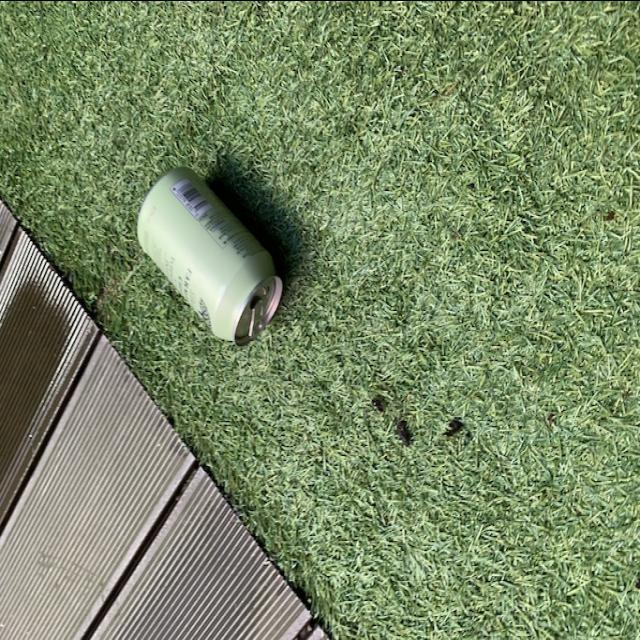Aluminum Can: (136, 160, 304, 348)
